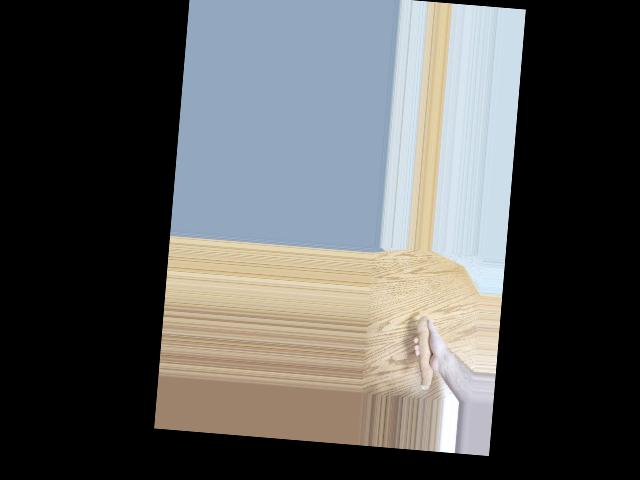sweet_potato: (409, 316, 439, 390)
